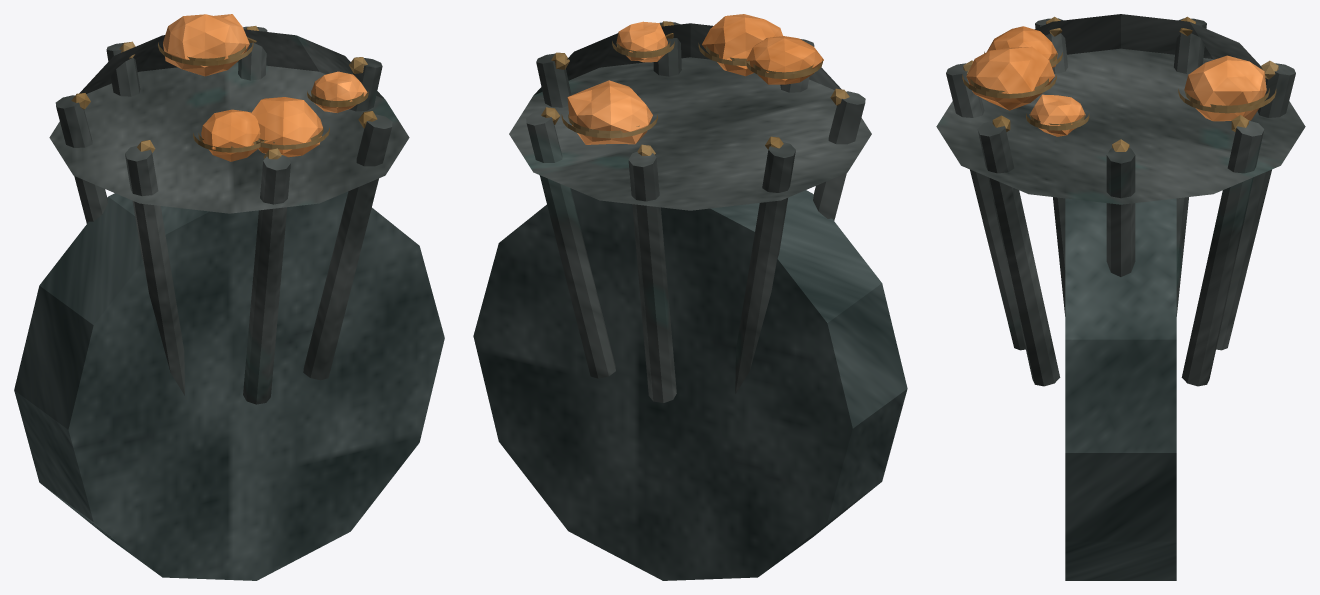
File: 0531_brazier_06.glb
3 views of the same model, side by side, from view 1: azimuth 30°, elevation 25°; view 2: azimuth 150°, elevation 25°; view 3: azimuth 270°, elevation 25° (orthographic). The views are drawn at different scales.
Visible parts, largest first — view 1: stone_dark, iron, amber, brass; view 2: stone_dark, iron, amber, brass; view 3: iron, stone_dark, amber, brass.
Boxes of the visible parts, x1=… form: stone_dark: x1=14, y1=191, x2=444, y2=580; iron: x1=49, y1=26, x2=409, y2=404; amber: x1=163, y1=14, x2=367, y2=161; brass: x1=71, y1=26, x2=377, y2=159; stone_dark: x1=473, y1=188, x2=907, y2=580; iron: x1=509, y1=22, x2=871, y2=402; amber: x1=567, y1=14, x2=823, y2=144; brass: x1=541, y1=21, x2=849, y2=155; iron: x1=936, y1=14, x2=1305, y2=386; stone_dark: x1=1065, y1=198, x2=1176, y2=580; amber: x1=966, y1=26, x2=1266, y2=136; brass: x1=962, y1=16, x2=1278, y2=151.
Size of the model in its own units: 1.4 by 1.78 by 1.16.
4 materials, 4 textured.
